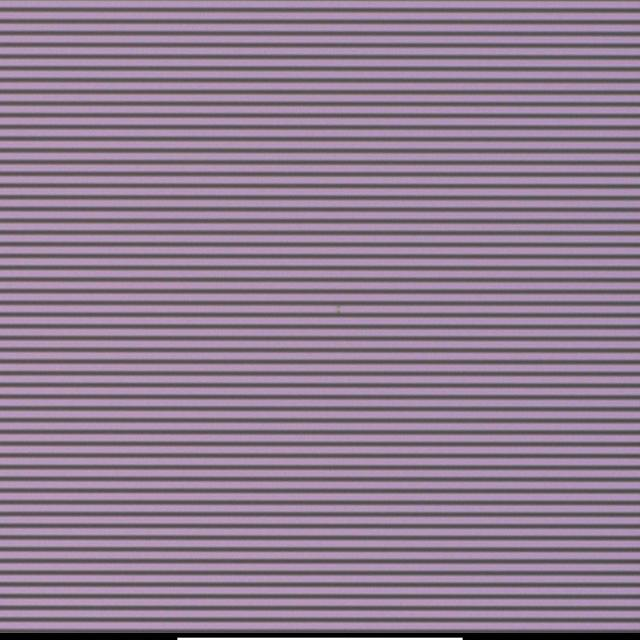nonvisual: (333, 305, 347, 318)
